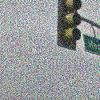traffic lights: (56, 0, 82, 50)
